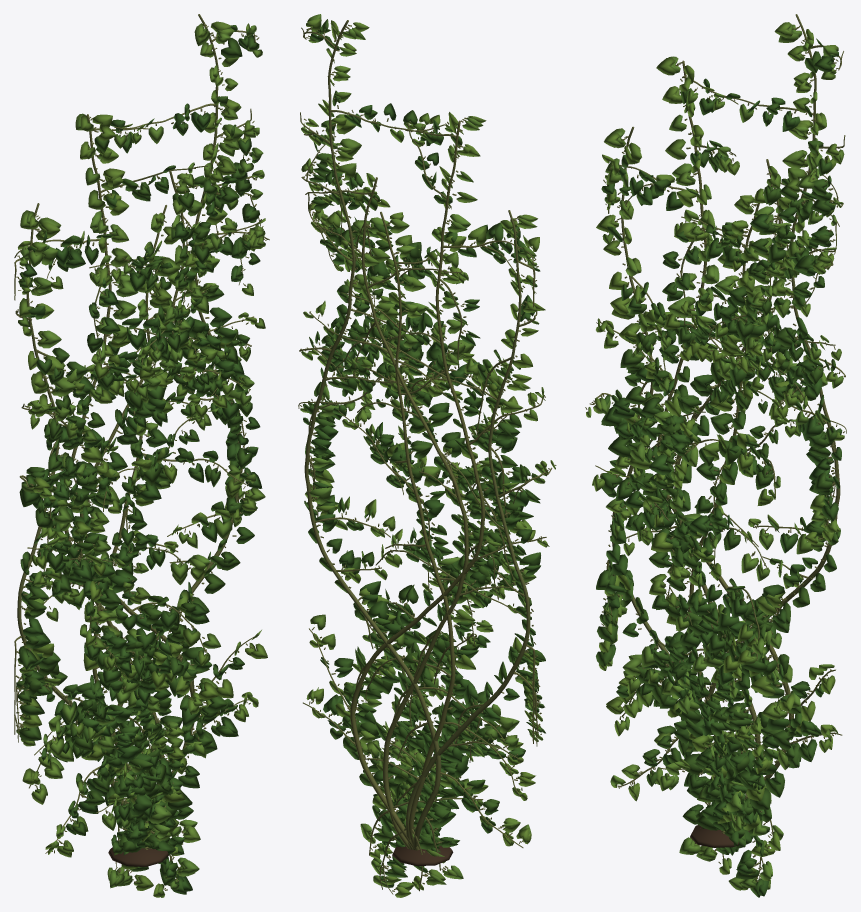
File: climber_ivy_55b.glb
3 views of the same model, side by side, from view 1: azimuth 30°, elevation 25°; view 2: azimuth 150°, elevation 25°; view 3: azimuth 330°, elevation 25° (orthographic).
Parts seen in each view (by area): view 1: Sammel Pflanze, Sammel Putz; view 2: Sammel Pflanze, Sammel Putz; view 3: Sammel Pflanze, Sammel Putz.
Boxes of the visible parts, bbox=[...] form: Sammel Pflanze: bbox=[16, 21, 267, 897]; Sammel Putz: bbox=[14, 14, 269, 890]; Sammel Pflanze: bbox=[300, 14, 555, 897]; Sammel Putz: bbox=[298, 20, 556, 894]; Sammel Pflanze: bbox=[586, 22, 844, 897]; Sammel Putz: bbox=[585, 14, 846, 881].
Size of the model in its own units: 1.56 by 5.31 by 0.5628.
